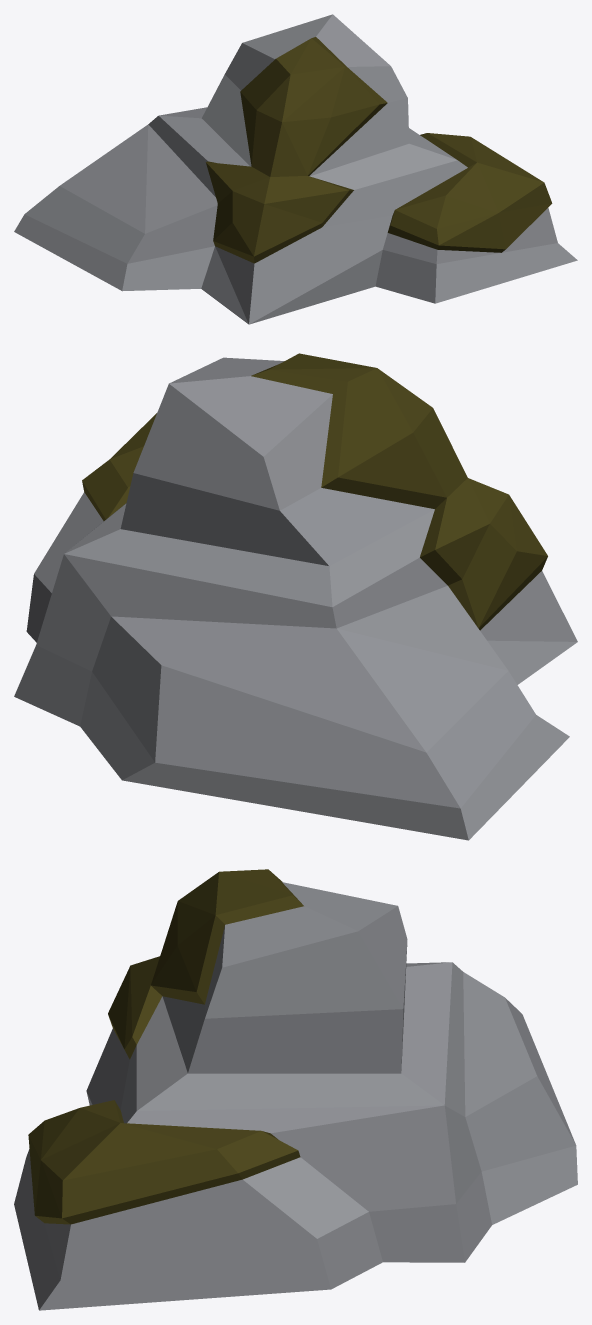
The model's file is stone_with_moss_2.fbx.
3 renders of one model, top to bottom at view 1: azimuth 30°, elevation 25°; view 2: azimuth 150°, elevation 25°; view 3: azimuth 270°, elevation 25°, orthographic. The views are drawn at different scales.
Visible parts, largest first — view 1: stone_with_moss_2; view 2: stone_with_moss_2; view 3: stone_with_moss_2.
Part boxes in pixels (x1=…): stone_with_moss_2: x1=14, y1=14, x2=577, y2=324; stone_with_moss_2: x1=14, y1=353, x2=577, y2=840; stone_with_moss_2: x1=14, y1=869, x2=577, y2=1310.
Size of the model in its own units: 220 by 108 by 190.
